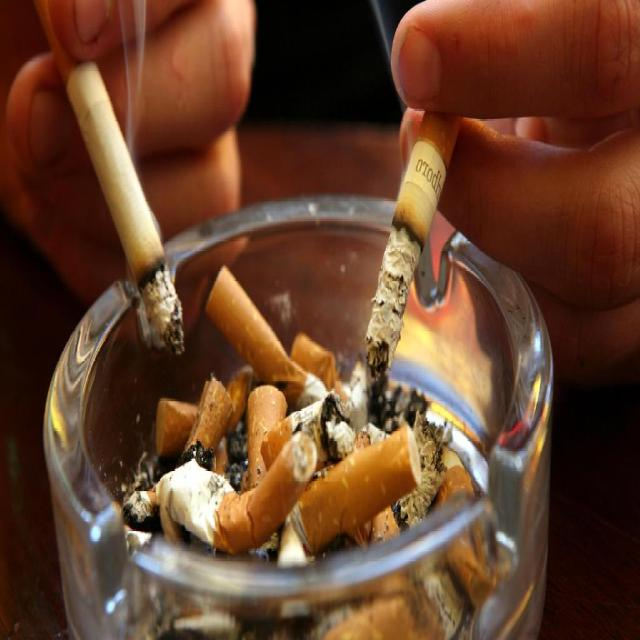smoking: (52, 37, 516, 630)
